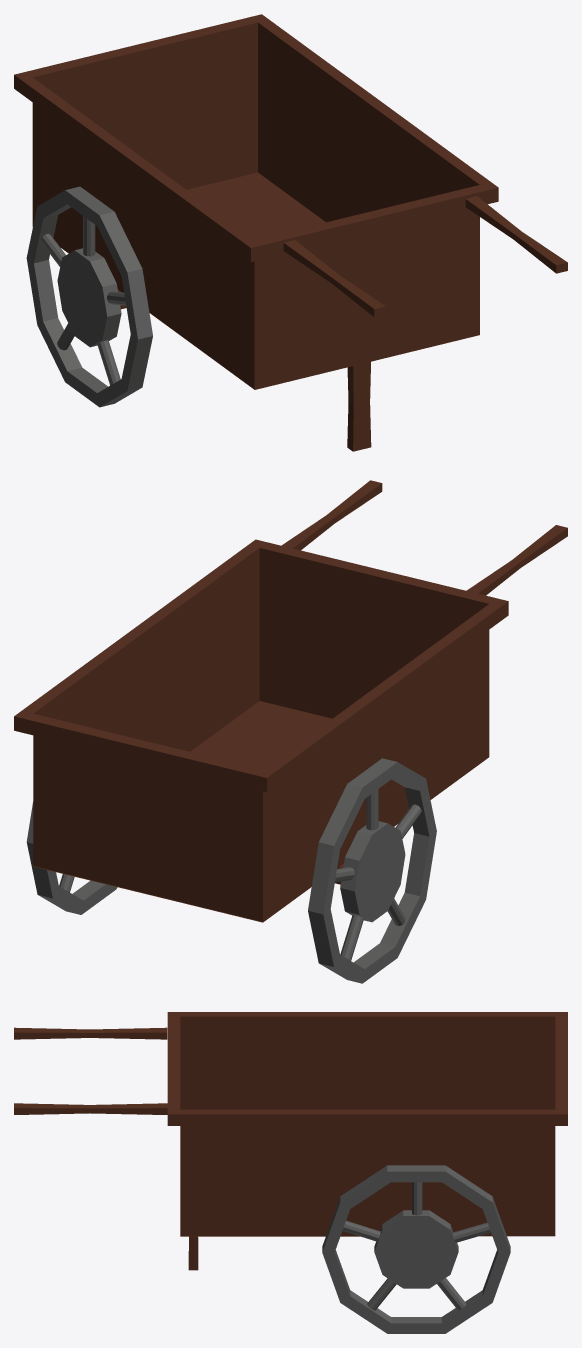
File: Carro de Mão.fbx
3 views of the same model, one above another, from view 1: azimuth 30°, elevation 25°; view 2: azimuth 150°, elevation 25°; view 3: azimuth 270°, elevation 25° (orthographic). The views are drawn at different scales.
Visible parts, largest first — view 1: corpo, roda2; view 2: corpo, roda2, roda 1; view 3: corpo, roda 1.
Part boxes in pixels (left/top/right/bottom): corpo: left=14, top=14, right=567, bottom=451; roda2: left=26, top=186, right=152, bottom=407; corpo: left=14, top=480, right=567, bottom=922; roda2: left=308, top=758, right=436, bottom=983; roda 1: left=26, top=801, right=117, bottom=914; corpo: left=14, top=1012, right=567, bottom=1270; roda 1: left=322, top=1165, right=510, bottom=1333.
Bounding box in the file's own units: 155 × 127 × 304.
